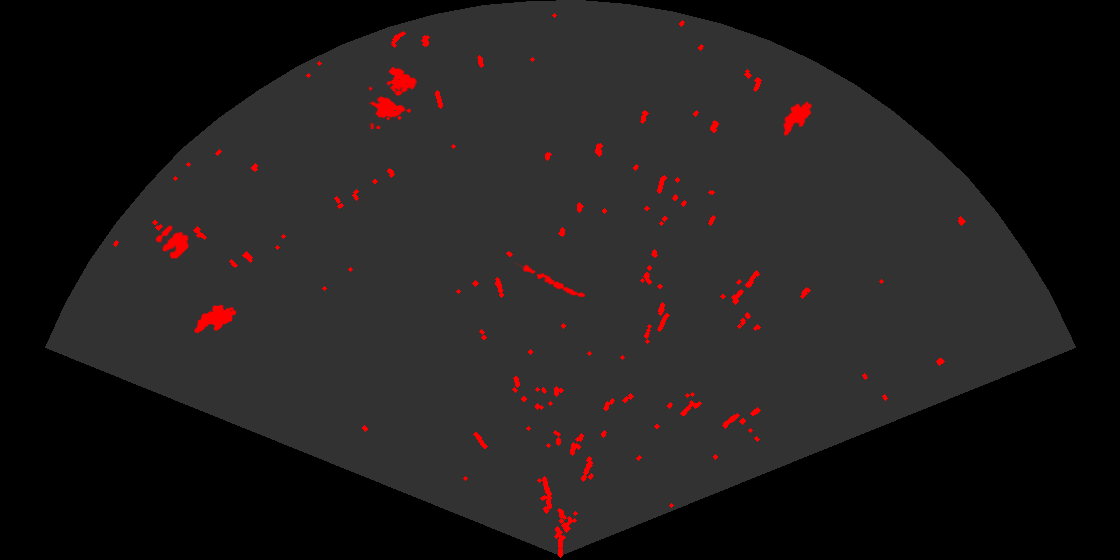AUV: (193, 303, 238, 335), (781, 100, 814, 138)
ball: (154, 224, 190, 260)
cage: (369, 65, 419, 129)
chain: (515, 260, 587, 299)
